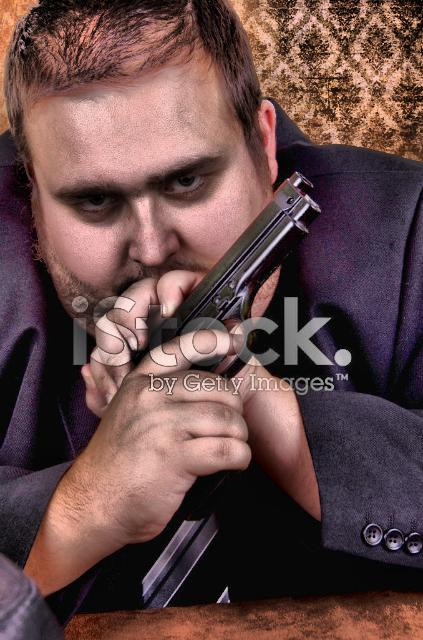pistol: (123, 167, 337, 528)
